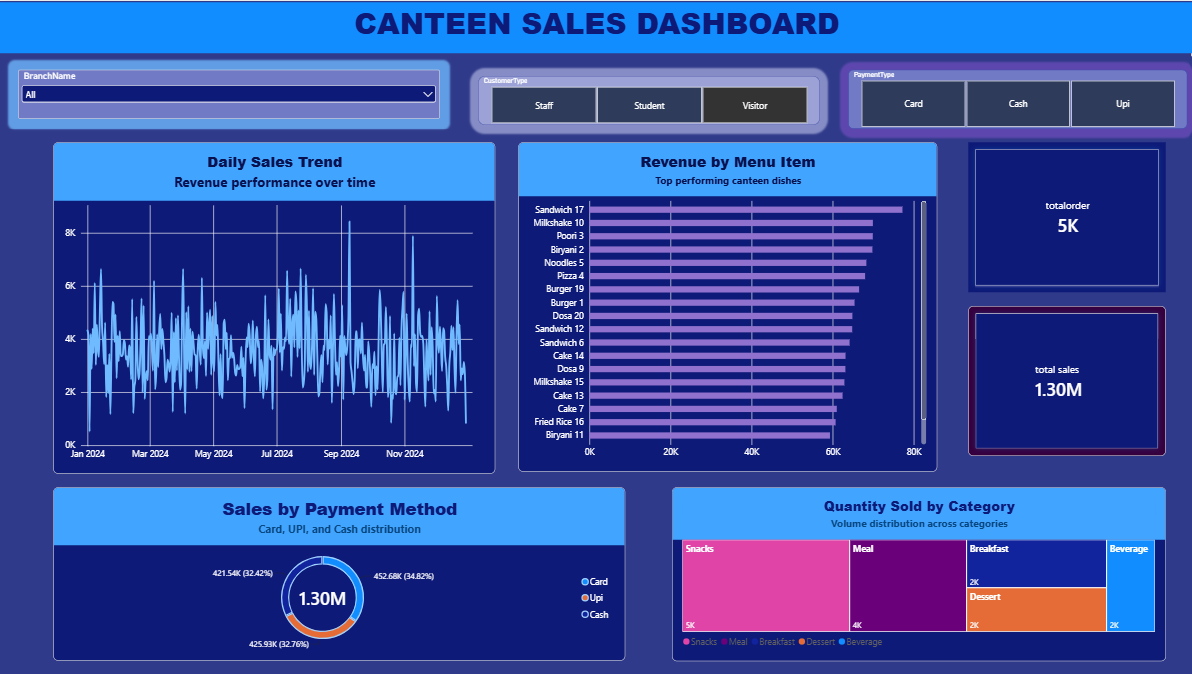

Layout of this report page (visuals, bound fields, positions):
{"tool":"powerbi","page":{"name":"Page 1","canvas":[1920,1080],"ordinal":0},"visuals":[{"type":"slicer","fields":{"Values":["Dim_Branch.BranchName"]},"box":[34,110,674,78],"z":0},{"type":"slicer","fields":{"Values":["Fact_Sales.CustomerType"]},"box":[770,120,546,78],"z":1000},{"type":"slicer","fields":{"Values":["Dim_Payment.PaymentType"]},"box":[1362,110,542,94],"z":2000},{"type":"cardVisual","fields":{"Data":["Fact_Sales.total sales"]},"box":[1554,488,316,240],"z":3000},{"type":"cardVisual","fields":{"Data":["Fact_Sales.totalorder"]},"box":[1554,226,316,240],"z":4000},{"type":"lineChart","title":"Daily Sales Trend","fields":{"Category":["Dim_Date.Date"],"Y":["Fact_Sales.total sales"]},"box":[90,225,707.5,530],"z":5000},{"type":"clusteredBarChart","title":"Revenue by Menu Item","fields":{"Category":["Dim_Items.ItemName"],"Y":["Fact_Sales.total sales"]},"box":[834,226,670,527.5],"z":6000},{"type":"donutChart","title":"Sales by Payment Method","fields":{"Category":["Dim_Payment.PaymentType"],"Y":["Fact_Sales.total sales"]},"box":[90,777.5,915,277.5],"z":7000},{"type":"treemap","title":"Quantity Sold by Category","fields":{"Group":["Dim_Items.Category"],"Values":["Fact_Sales.totalquality"]},"box":[1080,778,790,278],"z":8000},{"type":"textbox","title":"CANTEEN SALES DASHBOARD","box":[0,2,1920,86],"z":9000}]}

Visuals, with their boxes in screenshot pixels (x1, y1, x2, y2), scaled from the page's 1920x1080 canvas onto the 1192x674 screenshot:
slicer - Dim_Branch.BranchName: locate(21, 69, 440, 117)
slicer - Fact_Sales.CustomerType: locate(478, 75, 817, 124)
slicer - Dim_Payment.PaymentType: locate(846, 69, 1182, 127)
cardVisual - Fact_Sales.total sales: locate(965, 305, 1161, 454)
cardVisual - Fact_Sales.totalorder: locate(965, 141, 1161, 291)
"Daily Sales Trend" lineChart: locate(56, 140, 495, 471)
"Revenue by Menu Item" clusteredBarChart: locate(518, 141, 934, 470)
"Sales by Payment Method" donutChart: locate(56, 485, 624, 658)
"Quantity Sold by Category" treemap: locate(670, 486, 1161, 659)
"CANTEEN SALES DASHBOARD" textbox: locate(0, 1, 1191, 55)
